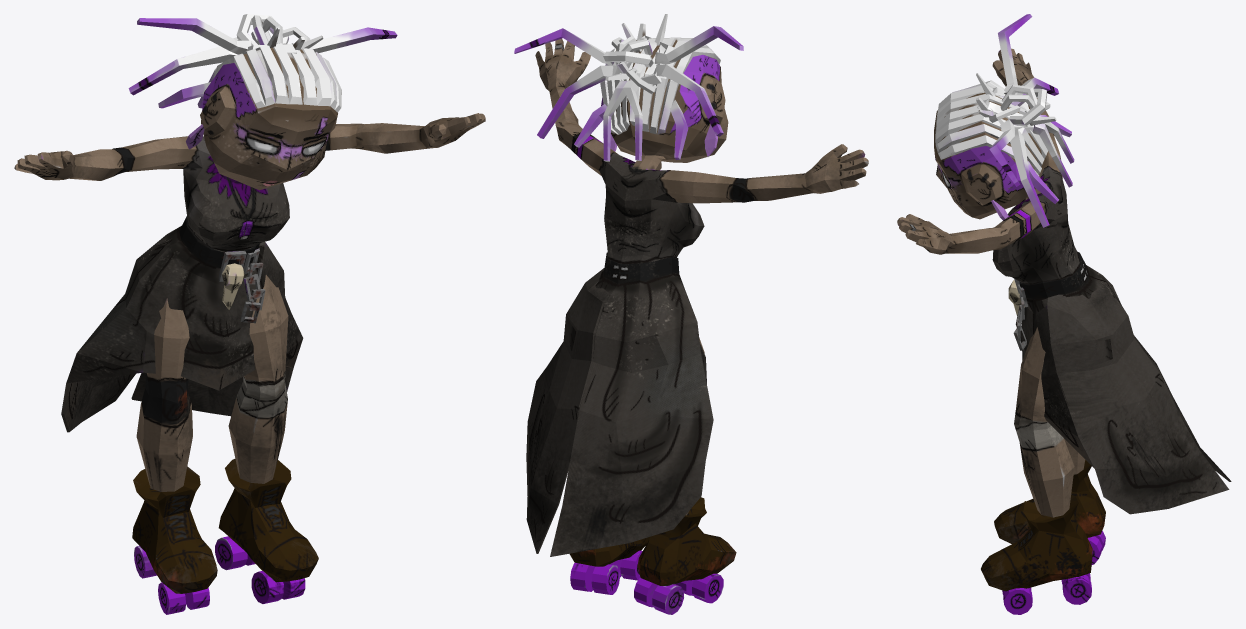
The model's file is bruja_000110.obj.
3 views of the same model, side by side, from view 1: azimuth 30°, elevation 25°; view 2: azimuth 150°, elevation 25°; view 3: azimuth 270°, elevation 25° (orthographic). The views are drawn at different scales.
Visible parts, largest first — view 1: Bruja_Plane.001; view 2: Bruja_Plane.001; view 3: Bruja_Plane.001.
Part boxes in pixels (x1,y1,x2,y2): Bruja_Plane.001: (14, 14, 485, 614); Bruja_Plane.001: (514, 14, 868, 614); Bruja_Plane.001: (897, 14, 1231, 614).
Bounding box in the file's own units: 11.76 × 16.68 × 9.42.
